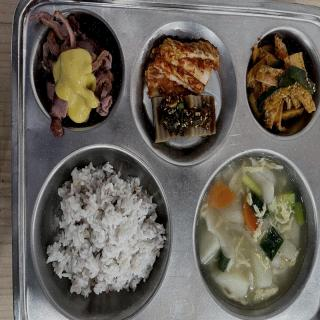Nasi: (51, 165, 168, 287)
